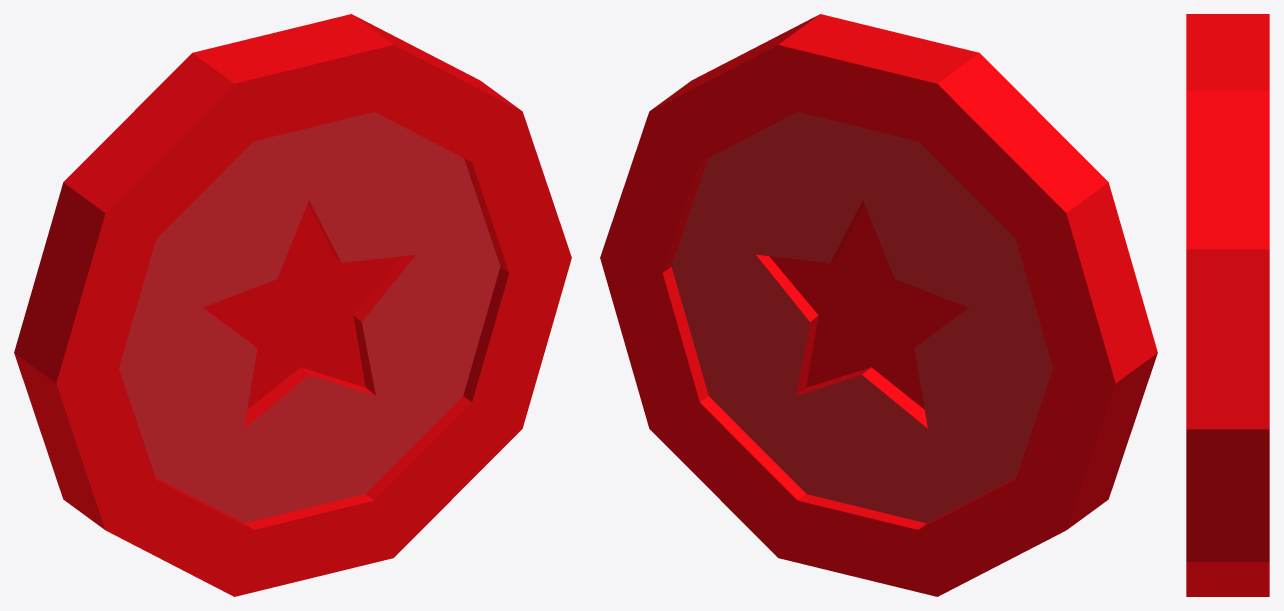
File: Coin_r.fbx
The picture shows the model from 3 angles, left to right: view 1: azimuth 30°, elevation 25°; view 2: azimuth 150°, elevation 25°; view 3: azimuth 270°, elevation 25°; orthographic projection.
Parts seen in each view (by area): view 1: Coin_r; view 2: Coin_r; view 3: Coin_r.
Boxes of the visible parts, <box> form: Coin_r: <box>14,14,571,596</box>; Coin_r: <box>600,14,1157,596</box>; Coin_r: <box>1186,14,1269,596</box>.
Bounding box in the file's own units: 9.71 × 9.23 × 1.38.
